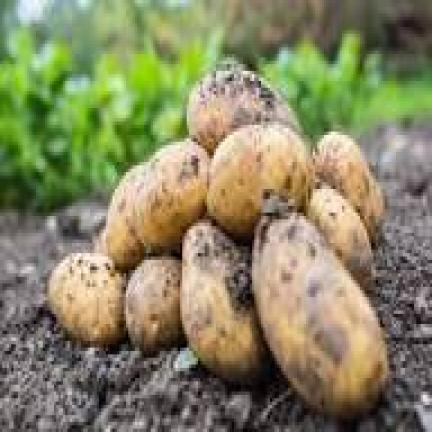potato: (252, 213, 387, 415), (180, 219, 263, 378), (207, 122, 310, 236), (189, 64, 297, 148), (135, 138, 207, 250), (315, 132, 382, 240), (50, 253, 124, 344), (308, 186, 371, 284), (126, 256, 180, 351), (101, 165, 144, 267)
